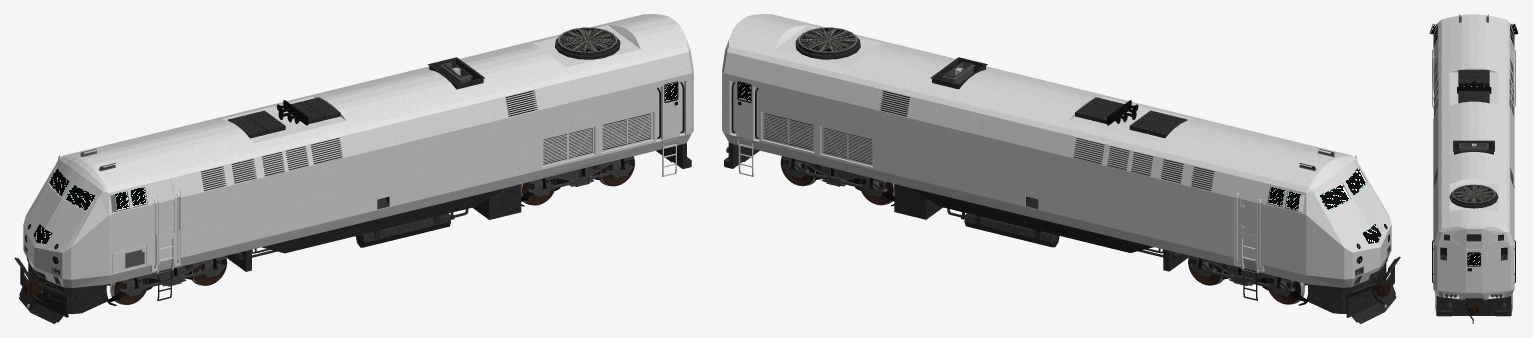
The picture shows the model from 3 angles, left to right: view 1: azimuth 30°, elevation 25°; view 2: azimuth 150°, elevation 25°; view 3: azimuth 270°, elevation 25°; orthographic projection. The views are drawn at different scales.
Visible parts, largest first — view 1: SHELL.002_FUEL_RE~31.017, SHELL_FUEL_RE~31.015, SHELL.001_FUEL_RE~31.016, CAB_FUEL_RE~31, FRAME_FUEL_RE~31.012, BOGEY_FRONT_Krupp-MaK_high-speed_bolsterless.006, BOGEY_REAR_Krupp-MaK_high-speed_bolsterless.009, plow_BLADE, FUEL_TANK_FUEL_RE~31.001; view 2: SHELL.002_FUEL_RE~31.017, SHELL_FUEL_RE~31.015, SHELL.001_FUEL_RE~31.016, CAB_FUEL_RE~31, FRAME_FUEL_RE~31.012, BOGEY_FRONT_Krupp-MaK_high-speed_bolsterless.006, BOGEY_REAR_Krupp-MaK_high-speed_bolsterless.009, plow_BLADE, FUEL_TANK_FUEL_RE~31.001; view 3: SHELL.002_FUEL_RE~31.017, SHELL_FUEL_RE~31.015, SHELL.001_FUEL_RE~31.016, CAB_FUEL_RE~31, FRAME_FUEL_RE~31.012, HORN_FUEL_RE~31.009, FRONT_COUPLER_Cube.103, mirror_1_Cube, mu_plugs_FUEL_RE~31.014.
Boxes of the visible parts, bbox=[...] form: SHELL.002_FUEL_RE~31.017: bbox=[460, 14, 693, 178]; SHELL_FUEL_RE~31.015: bbox=[137, 96, 357, 256]; SHELL.001_FUEL_RE~31.016: bbox=[308, 57, 506, 214]; CAB_FUEL_RE~31: bbox=[23, 137, 186, 279]; FRAME_FUEL_RE~31.012: bbox=[24, 133, 691, 314]; BOGEY_FRONT_Krupp-MaK_high-speed_bolsterless.006: bbox=[106, 256, 226, 305]; BOGEY_REAR_Krupp-MaK_high-speed_bolsterless.009: bbox=[521, 156, 633, 206]; plow_BLADE: bbox=[14, 257, 68, 323]; FUEL_TANK_FUEL_RE~31.001: bbox=[355, 209, 468, 247]; SHELL.002_FUEL_RE~31.017: bbox=[722, 14, 955, 178]; SHELL_FUEL_RE~31.015: bbox=[1057, 95, 1277, 256]; SHELL.001_FUEL_RE~31.016: bbox=[908, 57, 1106, 214]; CAB_FUEL_RE~31: bbox=[1229, 137, 1391, 279]; FRAME_FUEL_RE~31.012: bbox=[724, 133, 1390, 313]; BOGEY_FRONT_Krupp-MaK_high-speed_bolsterless.006: bbox=[1189, 256, 1307, 305]; BOGEY_REAR_Krupp-MaK_high-speed_bolsterless.009: bbox=[782, 156, 894, 206]; plow_BLADE: bbox=[1346, 256, 1400, 323]; FUEL_TANK_FUEL_RE~31.001: bbox=[947, 208, 1059, 247]; SHELL.002_FUEL_RE~31.017: bbox=[1432, 155, 1515, 293]; SHELL_FUEL_RE~31.015: bbox=[1433, 40, 1514, 123]; SHELL.001_FUEL_RE~31.016: bbox=[1433, 101, 1514, 177]; CAB_FUEL_RE~31: bbox=[1432, 14, 1515, 106]; FRAME_FUEL_RE~31.012: bbox=[1433, 247, 1514, 316]; HORN_FUEL_RE~31.009: bbox=[1457, 81, 1491, 93]; FRONT_COUPLER_Cube.103: bbox=[1466, 302, 1479, 323]; mirror_1_Cube: bbox=[1429, 23, 1518, 35]; mu_plugs_FUEL_RE~31.014: bbox=[1445, 294, 1506, 308].
Size of the model in its own units: 22.08 by 4.63 by 3.53.
Materials: 16 (15 with a texture image).
